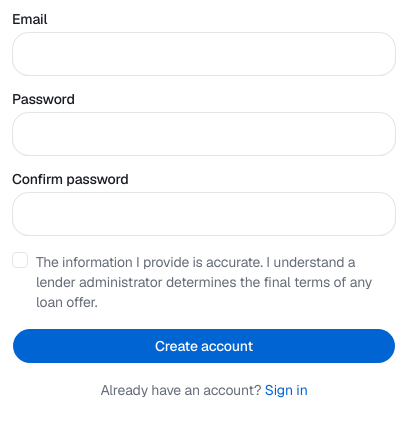
Test: SignupForm › rejects mismatched passwords
Type "new@example.com" into the field labelled "Email".
click(204, 54); type("new@example.com")  # box x1=12 y1=32 x2=396 y2=76
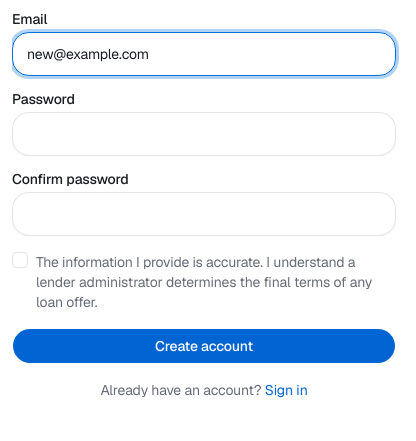
Type "a-strong-password-1" into the password field labelled "Password".
click(204, 134); type("a-strong-password-1")  # box x1=12 y1=112 x2=396 y2=156
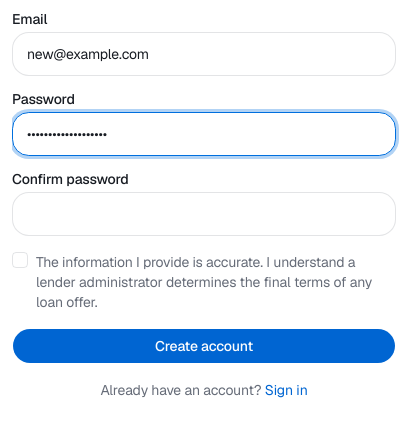
Type "does-not-match" into the password field labelled "Confirm password".
click(204, 214); type("does-not-match")  # box x1=12 y1=192 x2=396 y2=236
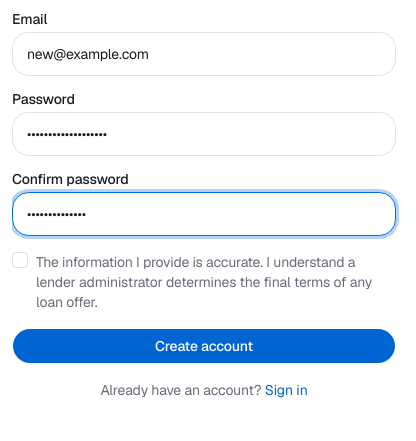
Click the 1st checkbox.
click(20, 260)  # box x1=12 y1=252 x2=28 y2=268
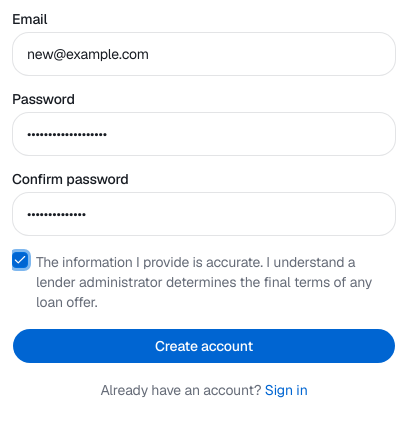
Click the button "Create account".
click(204, 346)  # box x1=12 y1=328 x2=396 y2=364
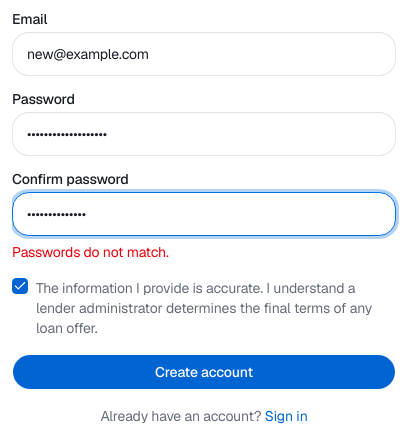
expect the text "Passwords do not match." is shown: met, box x1=12 y1=243 x2=169 y2=261
